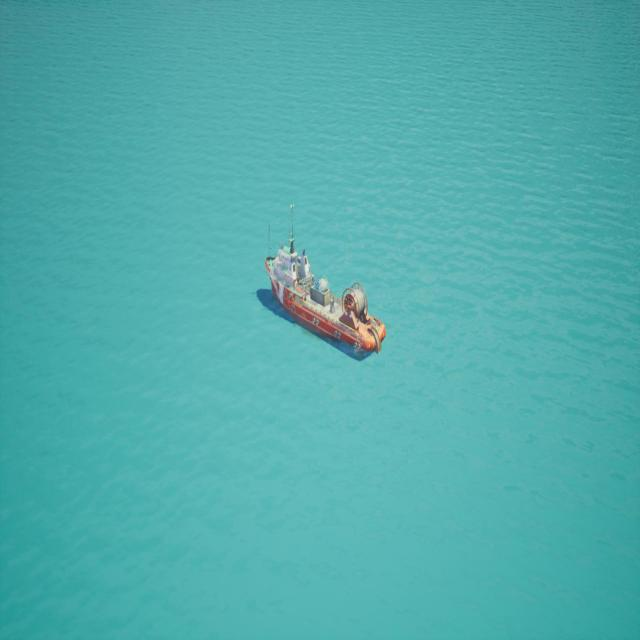tug boat: (260, 205, 383, 362)
